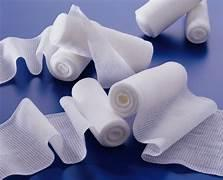cotton: (0, 6, 222, 178), (0, 62, 222, 178), (0, 78, 129, 178), (0, 79, 129, 178), (109, 62, 222, 174), (0, 5, 152, 87), (0, 6, 152, 87), (0, 6, 152, 86), (109, 62, 216, 155), (50, 6, 152, 87), (133, 63, 216, 155), (0, 99, 87, 178), (141, 110, 222, 175), (0, 26, 89, 83), (60, 78, 129, 146), (109, 62, 193, 116), (72, 78, 129, 146), (135, 0, 210, 43), (36, 26, 89, 80), (135, 0, 200, 36), (46, 110, 88, 163), (50, 5, 90, 57), (0, 35, 42, 82), (32, 26, 58, 78), (48, 48, 89, 80), (185, 0, 210, 43)
